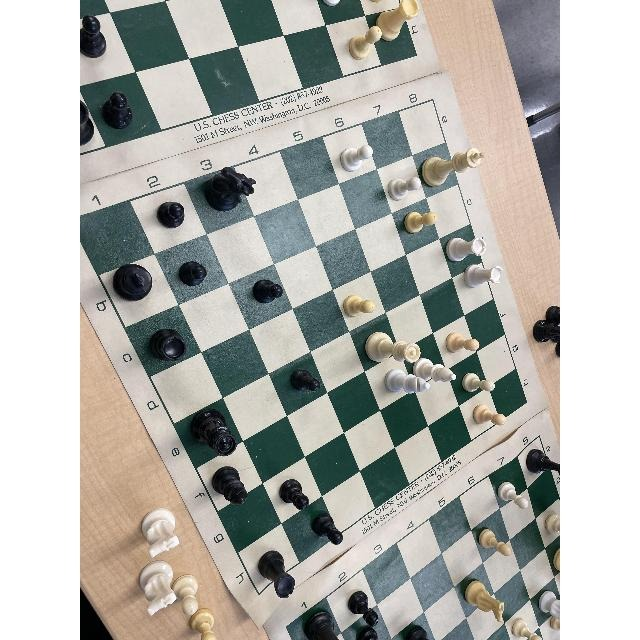black-bishop: (208, 463, 253, 512)
black-king: (111, 263, 158, 304)
black-knight: (201, 167, 257, 217), (406, 620, 431, 639)
black-pawn: (80, 14, 110, 60), (348, 590, 381, 628), (278, 477, 312, 513), (311, 511, 345, 547), (102, 93, 135, 129), (250, 276, 284, 309), (287, 367, 323, 397), (156, 201, 188, 232), (178, 260, 207, 289), (356, 628, 390, 640)
black-queen: (186, 407, 240, 459), (527, 446, 559, 484)
black-rook: (259, 550, 299, 601), (147, 328, 193, 372), (301, 608, 344, 639), (80, 99, 96, 151)
white-bishop: (385, 370, 432, 398), (414, 359, 457, 385)
white-king: (420, 146, 488, 191)
white-knight: (463, 578, 505, 621), (538, 591, 560, 617)
white-pawn: (347, 24, 384, 68), (477, 527, 513, 559), (497, 479, 530, 512), (340, 144, 373, 175), (444, 331, 481, 358), (342, 294, 377, 322), (471, 403, 508, 429), (388, 175, 422, 203), (462, 369, 496, 397), (402, 209, 437, 236), (511, 618, 543, 640)
white-queen: (367, 331, 423, 368)
white-rook: (379, 1, 421, 43), (444, 236, 490, 266), (463, 262, 505, 291)
